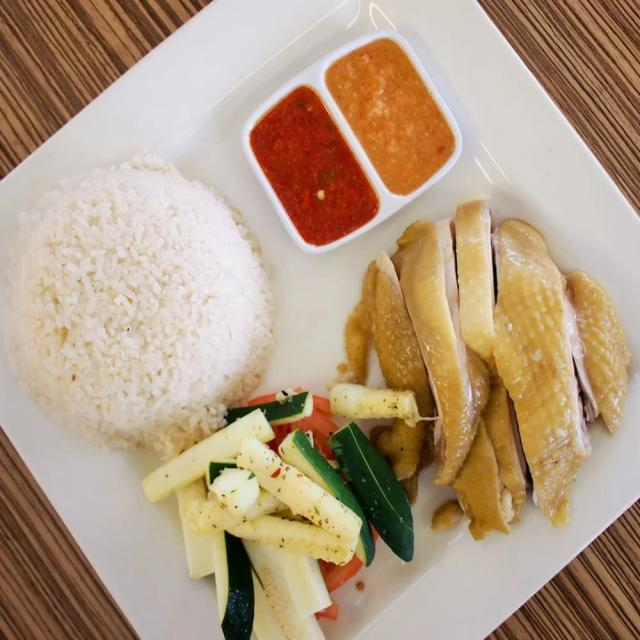com: (6, 156, 274, 458)
dua leo: (143, 384, 422, 639), (308, 395, 344, 463)
